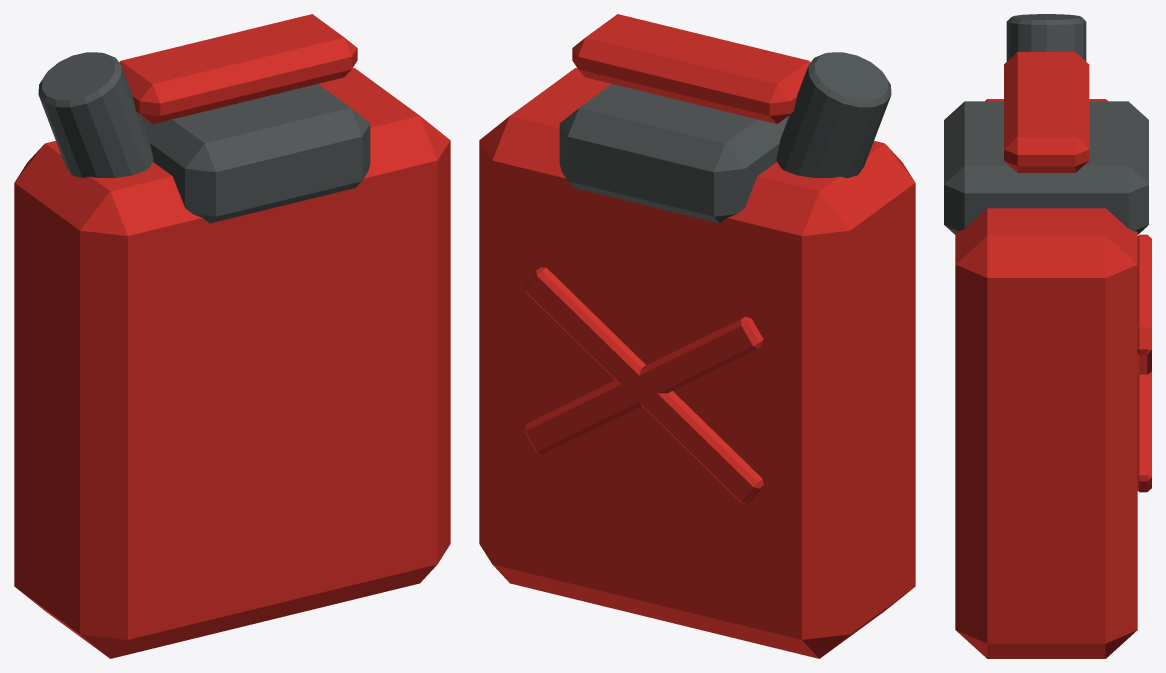
Rendered from item_gas_can.glb.
3 renders of one model, left to right at view 1: azimuth 30°, elevation 25°; view 2: azimuth 150°, elevation 25°; view 3: azimuth 270°, elevation 25°, orthographic. The views are drawn at different scales.
Parts seen in each view (by area): view 1: item_gas_can; view 2: item_gas_can; view 3: item_gas_can.
Boxes of the visible parts, <box> form: item_gas_can: <box>14,14,450,658</box>; item_gas_can: <box>479,14,915,658</box>; item_gas_can: <box>944,14,1151,658</box>.
Bounding box in the file's own units: 0.3428 × 0.5002 × 0.1825.
